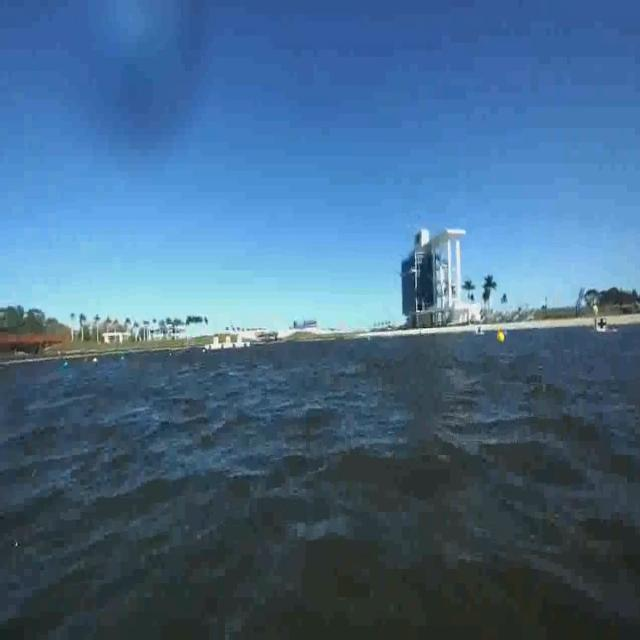yellow-buoy: (497, 330, 505, 346)
